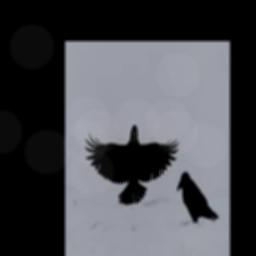Crow: (84, 123, 178, 204), (177, 170, 218, 222)
